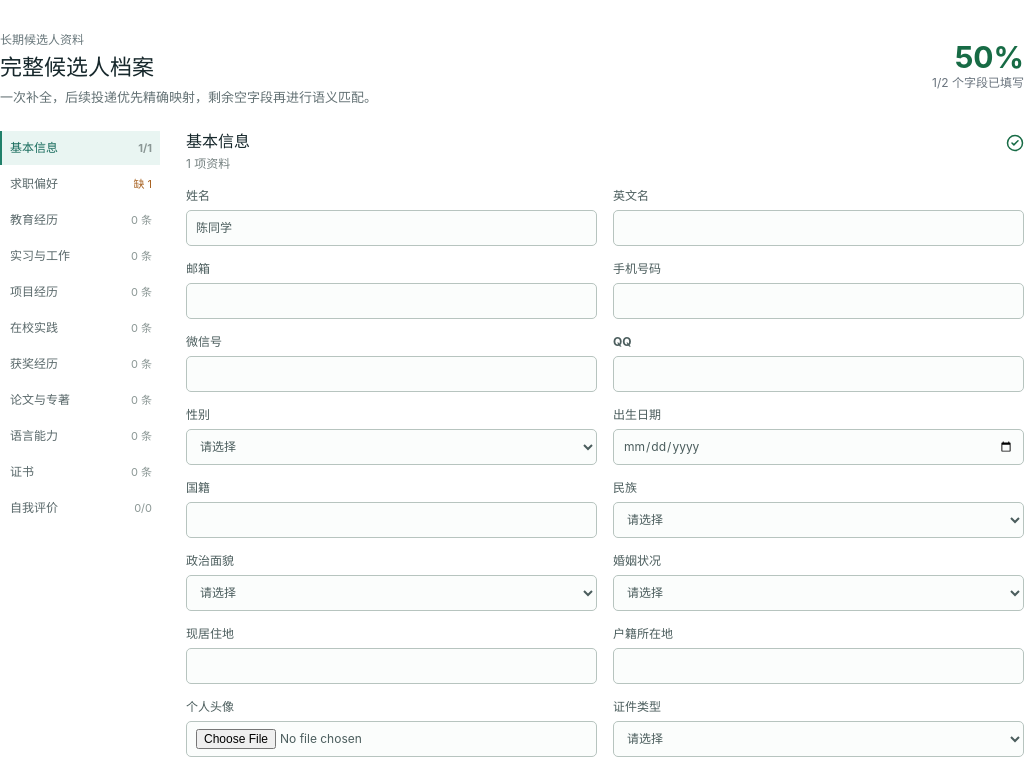
Test: CandidateProfileCenter › preserves drafts while switching profile sections
The width and height of the screenshot is (1024, 768).
Replace the text in the field labelled "姓名" with "陈晨" at (392, 228), box [186,210,597,246]
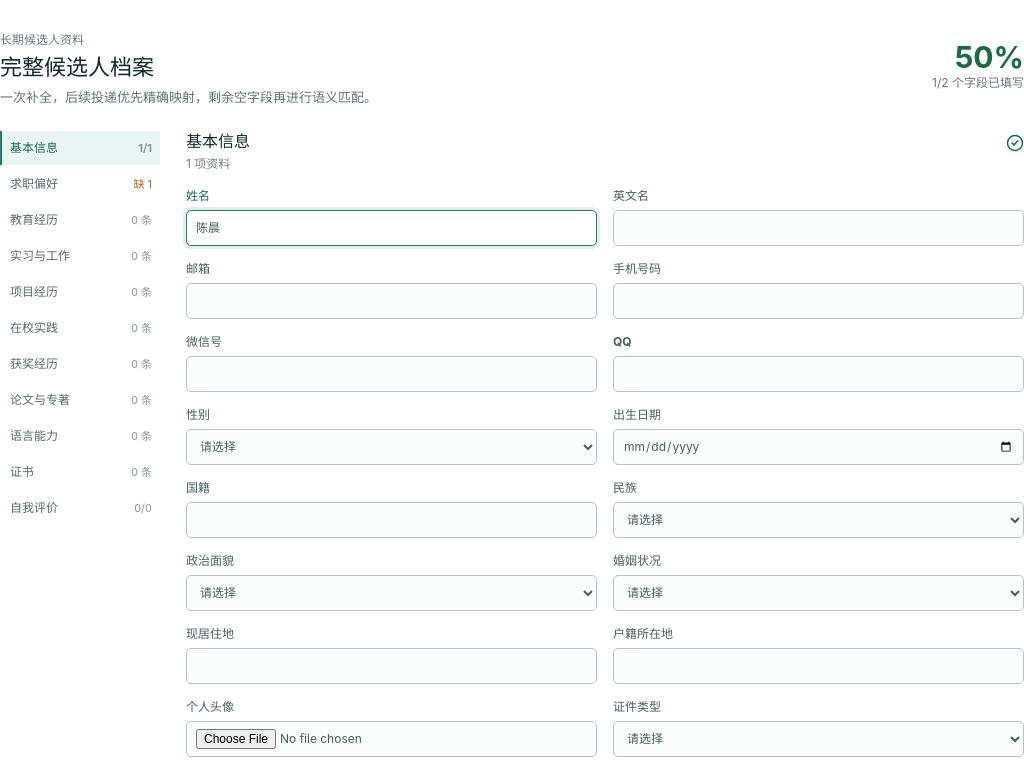
Click the button "求职偏好 缺 1".
click(80, 184)  # box [0,167,160,201]
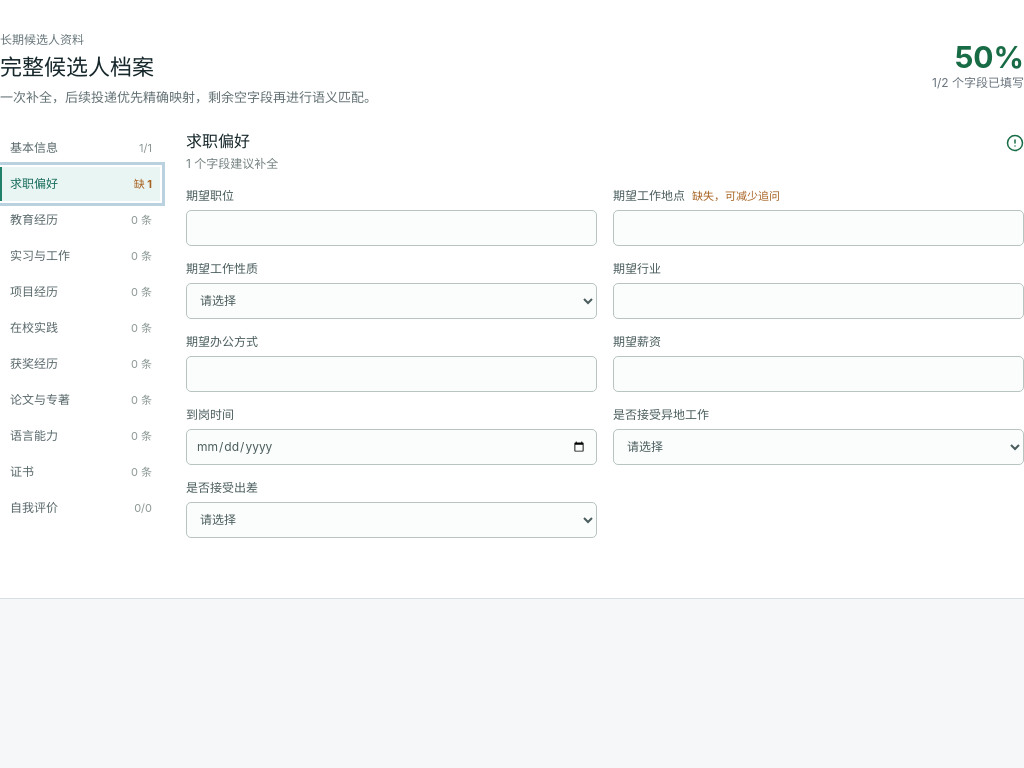
Click the button "基本信息 1/1".
click(80, 148)  # box [0,131,160,165]
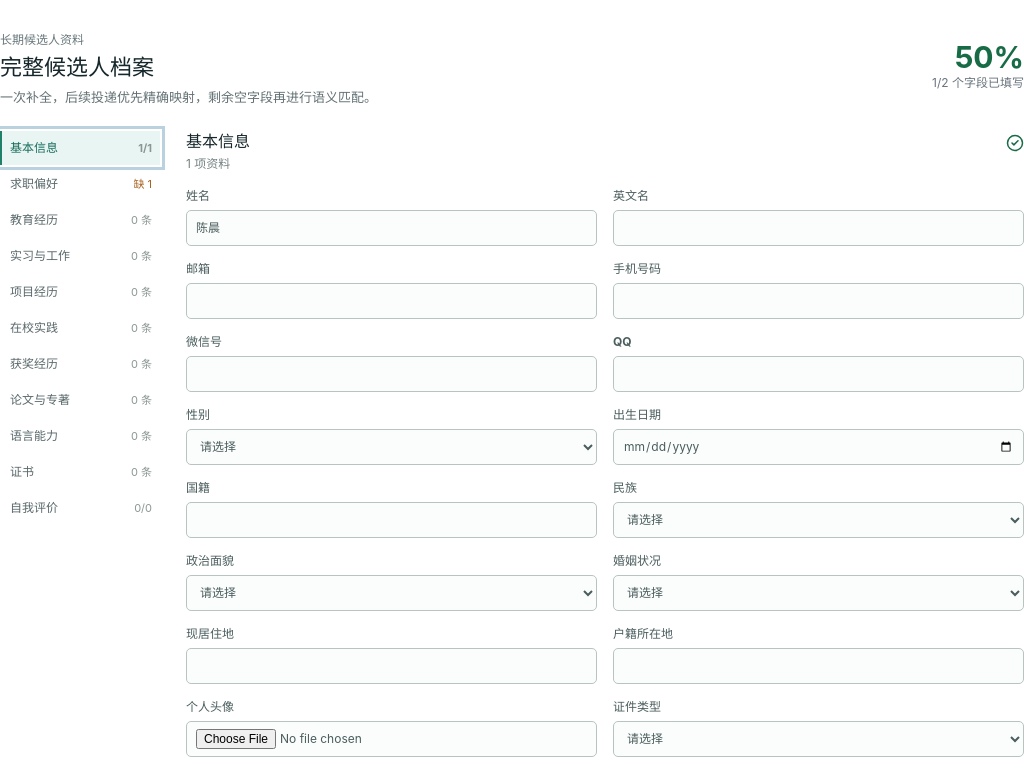
Expected: the field labelled "姓名" holds "陈晨", [186,210,597,246]
